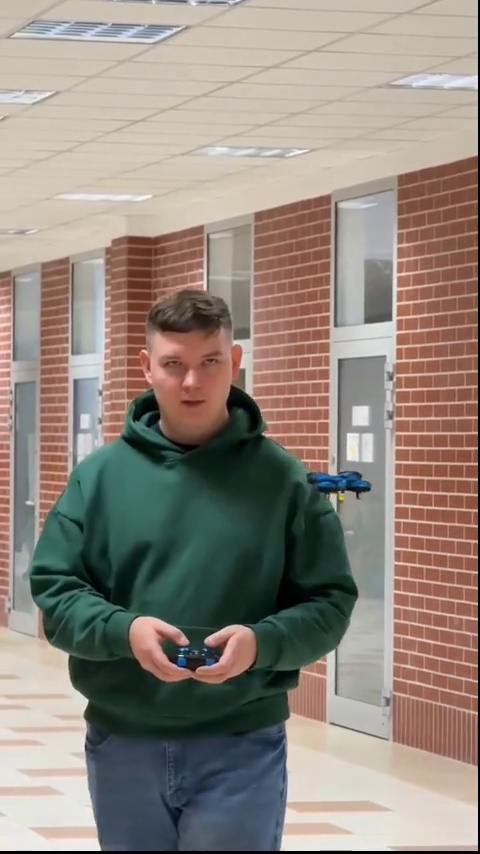drone: (305, 462, 365, 498)
no vest: (41, 288, 358, 830)
